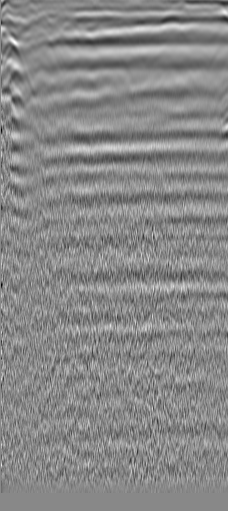가스: (217, 115, 228, 142)
오수: (16, 21, 36, 41)
우수: (159, 6, 184, 29)
